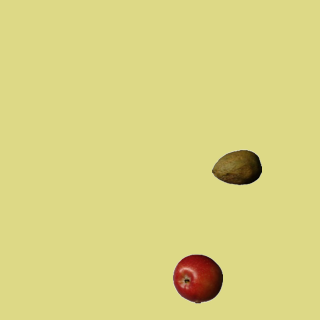Apple Braeburn: (172, 253, 222, 303)
Papaya: (211, 142, 261, 192)
